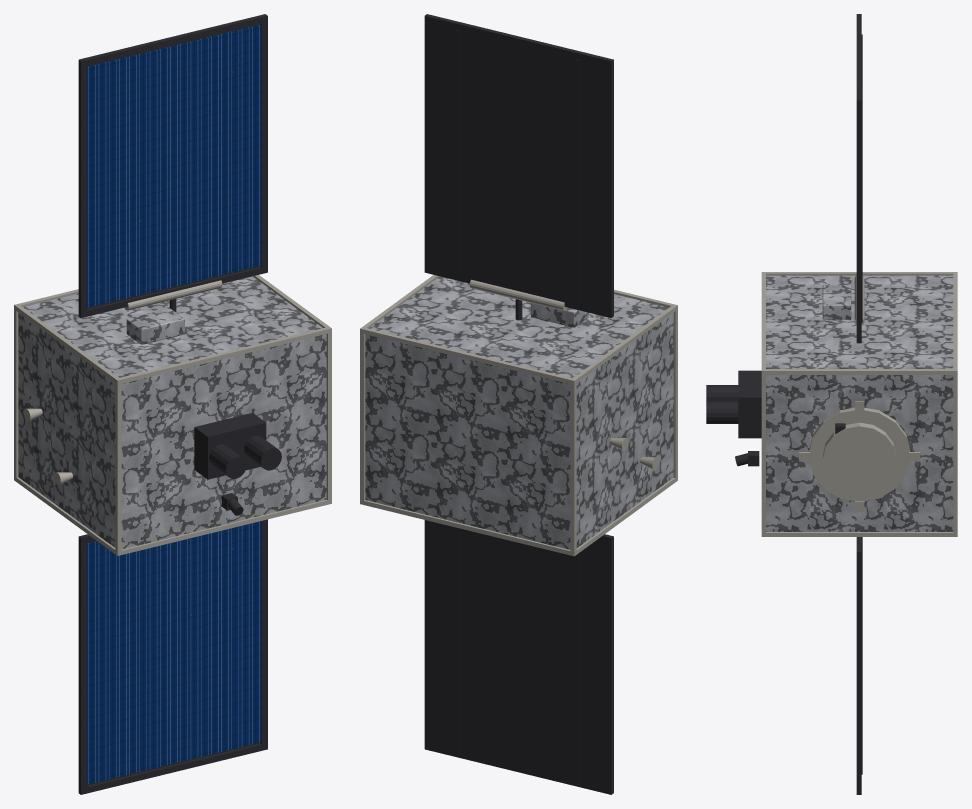
File: chaser.medium.glb
3 views of the same model, side by side, from view 1: azimuth 30°, elevation 25°; view 2: azimuth 150°, elevation 25°; view 3: azimuth 270°, elevation 25° (orthographic). The views are drawn at different scales.
Visible parts, largest first — view 1: bus, solar_wing_r, solar_wing_l, bus_frame, payload_0_imager, equip_0, solar_hinge_r; view 2: bus, solar_wing_r, solar_wing_l, bus_frame, solar_hinge_r, equip_0; view 3: bus, servicing_0_docking_port_ring_forward_soft_dock, bus_frame, payload_0_imager, solar_wing_r, solar_wing_l, equip_0.
Part boxes in pixels (x1,y1,x2,y2): bus: (18, 276, 326, 549); solar_wing_r: (78, 14, 267, 317); solar_wing_l: (78, 519, 267, 794); bus_frame: (14, 275, 331, 555); payload_0_imager: (194, 413, 281, 479); equip_0: (126, 308, 184, 344); solar_hinge_r: (125, 280, 222, 310); bus: (365, 276, 673, 549); solar_wing_r: (424, 14, 613, 317); solar_wing_l: (424, 520, 613, 794); bus_frame: (360, 275, 677, 556); solar_hinge_r: (469, 279, 567, 310); equip_0: (531, 303, 588, 327); bus: (766, 275, 953, 531); servicing_0_docking_port_ring_forward_soft_dock: (799, 401, 920, 511); bus_frame: (761, 272, 957, 536); payload_0_imager: (706, 370, 761, 438); solar_wing_r: (856, 14, 862, 343); solar_wing_l: (856, 537, 862, 794); equip_0: (822, 285, 851, 319).
Size of the model in its own units: 2.1 by 6 by 1.97.
6 materials, 3 textured.
